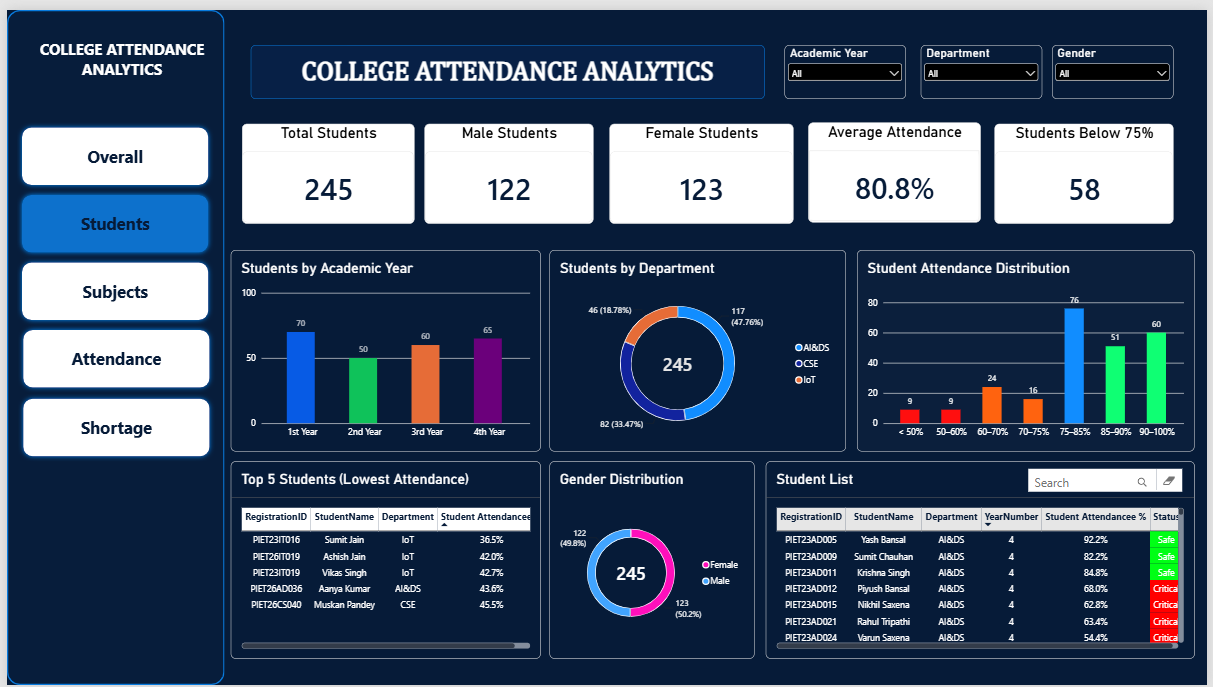

What the dashboard file says about the page in this screenshot:
{"tool":"powerbi","page":{"name":"Students","canvas":[1920,1080],"ordinal":1},"visuals":[{"type":"shape","title":"Sidebar Background","box":[0,0,348,1080],"z":0},{"type":"cardVisual","title":"Total Students","fields":{"Data":["DimStudent.Total Students"]},"box":[376,182,276,160],"z":1000},{"type":"textbox","box":[390,56,822,86],"z":2000},{"type":"textbox","box":[10,10,348,412],"z":3000},{"type":"cardVisual","title":"Male Students","fields":{"Data":["AttendanceSummary.Male Students"]},"box":[668,182,270,160],"z":4000},{"type":"cardVisual","title":"Female Students","fields":{"Data":["AttendanceSummary.Female Students"]},"box":[964,182,294,160],"z":5000},{"type":"cardVisual","title":"Average Attendance","fields":{"Data":["AttendanceSummary.Average Attendance %"]},"box":[1282,180,276,160],"z":6000},{"type":"clusteredColumnChart","title":"Students by Academic Year","fields":{"Category":["DimStudent.Year Label"],"Y":["CountNonNull(DimStudent.StudentID)"]},"box":[358,384,496,322],"z":7000},{"type":"tableEx","title":"Top 5 Students (Lowest Attendance)","fields":{"Values":["AttendanceSummary.RegistrationID","AttendanceSummary.StudentName","AttendanceSummary.Department","AttendanceSummary.Student Attendance %"]},"box":[358,722,496,316],"z":8000},{"type":"slicer","fields":{"Values":["DimStudent.AcademicYear"]},"box":[1244,56,194,86],"z":9000},{"type":"slicer","fields":{"Values":["DimStudent.Department"]},"box":[1462,56,194,86],"z":10000},{"type":"slicer","fields":{"Values":["DimStudent.Gender"]},"box":[1672,56,194,86],"z":11000},{"type":"actionButton","box":[16,180,314,108],"z":12000},{"type":"actionButton","box":[16,288,314,108],"z":13000},{"type":"actionButton","box":[16,396,314,108],"z":14000},{"type":"actionButton","box":[18,504,314,108],"z":15000},{"type":"actionButton","box":[18,614,314,108],"z":16000},{"type":"cardVisual","title":"Students Below 75%","fields":{"Data":["FactAttendance.Students Below 75%"]},"box":[1580,182,286,160],"z":17000},{"type":"donutChart","title":"Students by Department","fields":{"Category":["AttendanceSummary.Department"],"Y":["Count(AttendanceSummary.RegistrationID)"]},"box":[868,384,474,322],"z":18000},{"type":"donutChart","title":"Gender Distribution","fields":{"Category":["DimStudent.Gender"],"Y":["Count(DimStudent.RegistrationID)"]},"box":[868,722,328,316],"z":19000},{"type":"clusteredColumnChart","title":"Student Attendance Distribution","fields":{"Category":["AttendanceSummary.Attendance Range"],"Y":["AttendanceSummary.Students in Attendance Range"]},"box":[1360,384,540,322],"z":20000},{"type":"tableEx","title":"Student List","fields":{"Values":["DimStudent.RegistrationID","DimStudent.StudentName","DimStudent.Department","DimStudent.YearNumber","AttendanceSummary.Student Attendance %","AttendanceSummary.Status"]},"box":[1214,722,686,316],"z":21000},{"type":"textFilter25A4896A83E0487089E2B90C9AE57C8A","title":"Search by Name or Registration ID...","fields":{"field":["AttendanceSummary.Student Search"]},"box":[1614,722,286,66],"z":22000}]}

Visuals, with their boxes in screenshot pixels (x1, y1, x2, y2), scaled from the page's 1920x1080 canvas onto the 1213x687 screenshot:
"Sidebar Background" shape: [x1=0, y1=0, x2=220, y2=686]
"Total Students" cardVisual: [x1=238, y1=116, x2=412, y2=218]
textbox: [x1=246, y1=36, x2=766, y2=90]
textbox: [x1=6, y1=6, x2=226, y2=268]
"Male Students" cardVisual: [x1=422, y1=116, x2=593, y2=218]
"Female Students" cardVisual: [x1=609, y1=116, x2=795, y2=218]
"Average Attendance" cardVisual: [x1=810, y1=114, x2=984, y2=216]
"Students by Academic Year" clusteredColumnChart: [x1=226, y1=244, x2=540, y2=449]
"Top 5 Students (Lowest Attendance)" tableEx: [x1=226, y1=459, x2=540, y2=660]
slicer - DimStudent.AcademicYear: [x1=786, y1=36, x2=908, y2=90]
slicer - DimStudent.Department: [x1=924, y1=36, x2=1046, y2=90]
slicer - DimStudent.Gender: [x1=1056, y1=36, x2=1179, y2=90]
actionButton: [x1=10, y1=114, x2=208, y2=183]
actionButton: [x1=10, y1=183, x2=208, y2=252]
actionButton: [x1=10, y1=252, x2=208, y2=321]
actionButton: [x1=11, y1=321, x2=210, y2=389]
actionButton: [x1=11, y1=391, x2=210, y2=459]
"Students Below 75%" cardVisual: [x1=998, y1=116, x2=1179, y2=218]
"Students by Department" donutChart: [x1=548, y1=244, x2=848, y2=449]
"Gender Distribution" donutChart: [x1=548, y1=459, x2=756, y2=660]
"Student Attendance Distribution" clusteredColumnChart: [x1=859, y1=244, x2=1200, y2=449]
"Student List" tableEx: [x1=767, y1=459, x2=1200, y2=660]
"Search by Name or Registration ID..." textFilter25A4896A83E0487089E2B90C9AE57C8A: [x1=1020, y1=459, x2=1200, y2=501]
